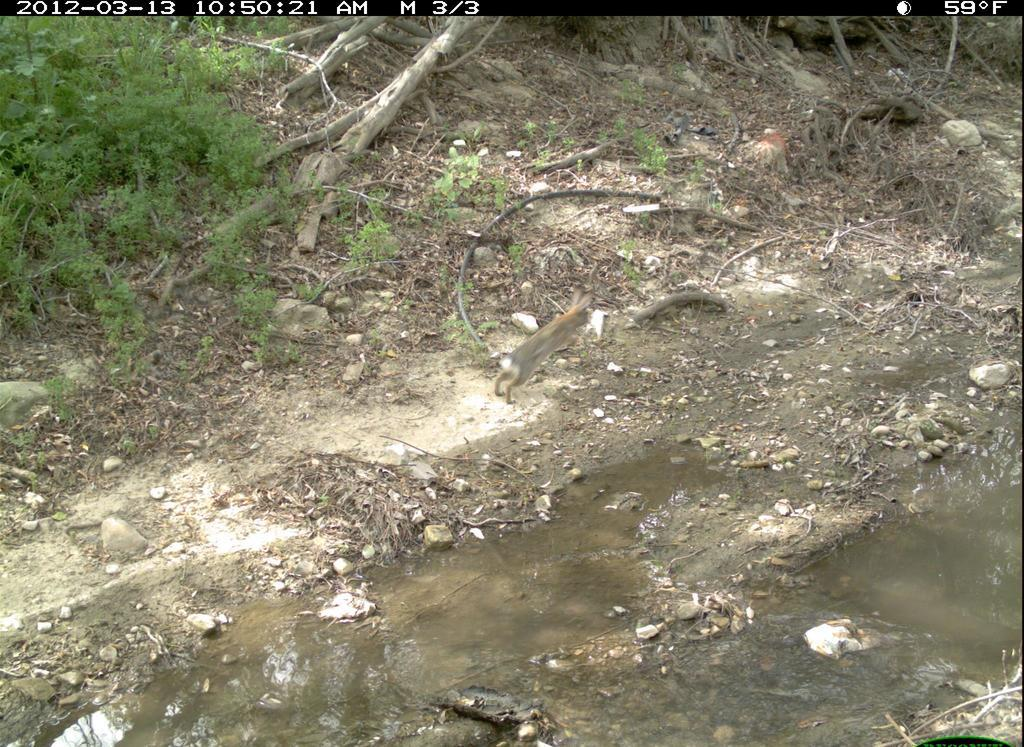rabbit: (491, 282, 603, 410)
